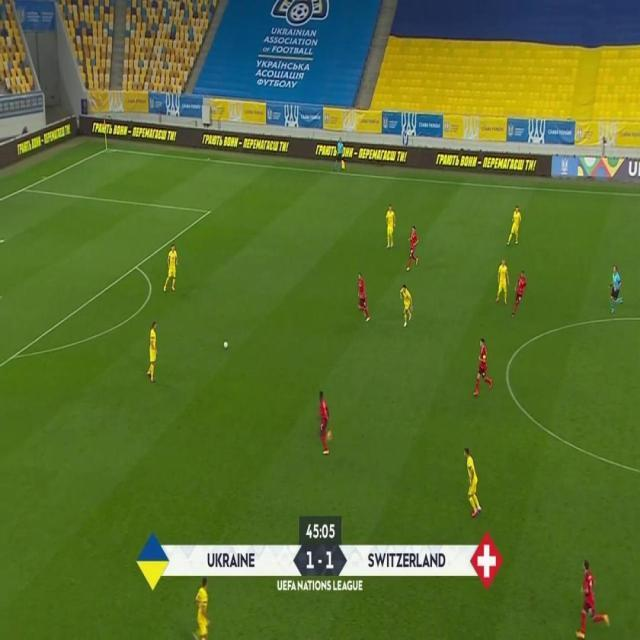ball: (223, 340, 229, 350)
player: (574, 556, 612, 640), (461, 445, 481, 518), (190, 578, 212, 640), (472, 337, 493, 398), (317, 390, 334, 454), (161, 244, 180, 294), (144, 321, 159, 383), (511, 270, 528, 318), (494, 258, 511, 306), (356, 272, 371, 323), (405, 225, 421, 271), (506, 204, 523, 246), (398, 282, 413, 328), (385, 205, 398, 249)
referee: (609, 265, 626, 314), (334, 137, 346, 173)
